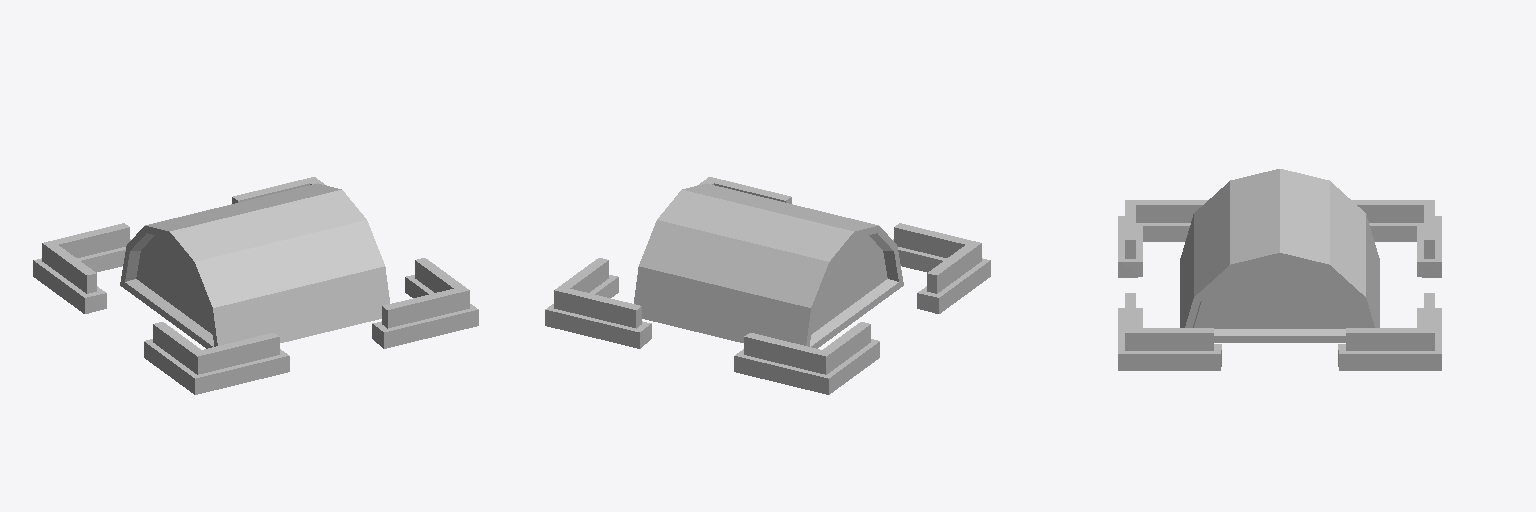
Rendered from faction_base.obj.
3 views of the same model, side by side, from view 1: azimuth 30°, elevation 25°; view 2: azimuth 150°, elevation 25°; view 3: azimuth 270°, elevation 25° (orthographic).
Visible parts, largest first — view 1: Cylinder; view 2: Cylinder; view 3: Cylinder.
Boxes of the visible parts, <box> form: Cylinder: <box>33,177,478,394</box>; Cylinder: <box>545,177,990,394</box>; Cylinder: <box>1118,169,1441,370</box>.
Size of the model in its own units: 0.863 by 0.2643 by 0.8525.